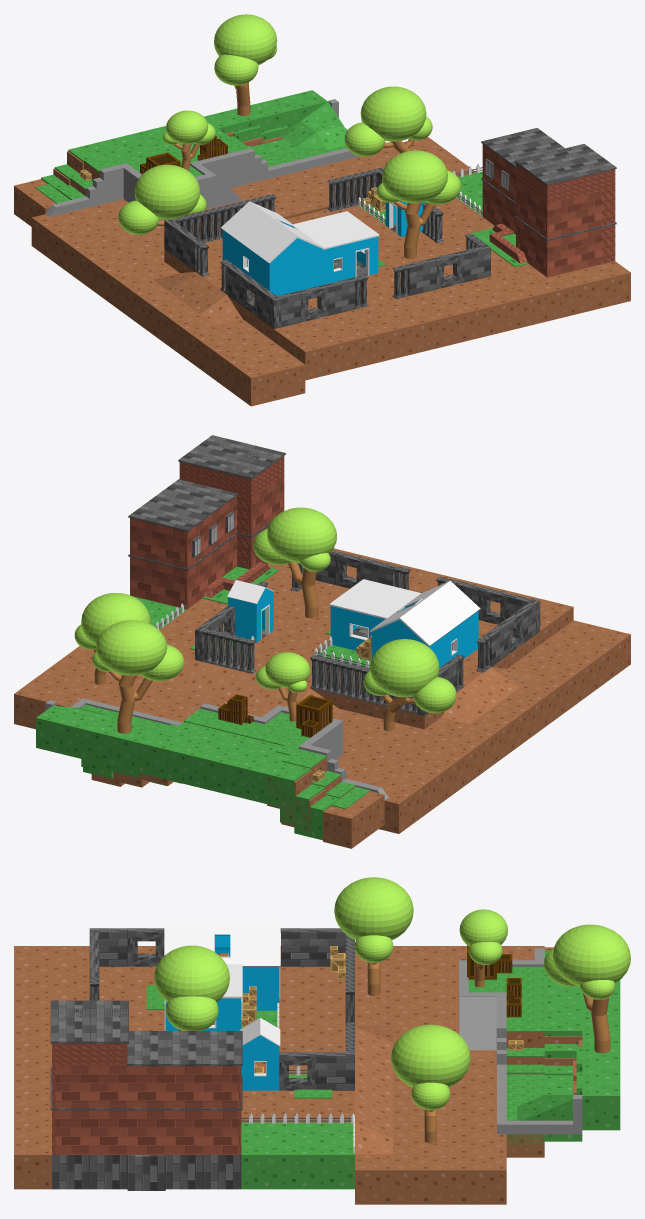
File: SigmaCityTest67.glb
3 renders of one model, top to bottom at view 1: azimuth 30°, elevation 25°; view 2: azimuth 150°, elevation 25°; view 3: azimuth 270°, elevation 25°, orthographic. The views are drawn at different scales.
Visible parts, largest first — view 1: Tree, Tree2.001, Tree2, Tree.001, Tree.002, Dirt.137, Dirt.124, CornerWall.001, Dirt.127, Dirt.131, Dirt.123, Dirt.125 (+58 smaller); view 2: Tree.001, Tree2, Tree, Tree2.001, Tree.002, Dirt.164, Grass.020, Grass.032, Grass.028, Grass.023, Grass.024, Grass.029 (+55 smaller); view 3: Tree.001, Tree2, Tree2.001, Tree, Tree.002, Grass.009, Dirt.106, Grass.029, Grass.007, Dirt.133, Grass.008, StoneSlope (+115 smaller).
Part boxes in pixels (x1,y1,x2,y2): Tree: [376, 150, 460, 258]; Tree2.001: [344, 86, 432, 156]; Tree2: [118, 164, 206, 234]; Tree.001: [214, 14, 277, 115]; Tree.002: [163, 110, 215, 171]; Dirt.137: [235, 360, 278, 406]; Dirt.124: [289, 334, 332, 380]; CornerWall.001: [254, 252, 296, 295]; Dirt.127: [371, 314, 413, 360]; Dirt.131: [534, 274, 576, 320]; Dirt.123: [425, 301, 468, 347]; Dirt.125: [317, 327, 359, 373]; Tree.001: [92, 620, 184, 733]; Tree2: [363, 639, 456, 731]; Tree: [253, 507, 336, 618]; Tree2.001: [74, 593, 150, 684]; Tree.002: [255, 652, 310, 721]; Dirt.164: [323, 803, 368, 848]; Grass.020: [265, 761, 310, 810]; Grass.032: [179, 740, 224, 789]; Grass.028: [64, 712, 109, 761]; Grass.023: [150, 733, 195, 782]; Grass.024: [122, 726, 166, 775]; Grass.029: [36, 705, 80, 754]; Tree.001: [544, 924, 630, 1053]; Tree2: [334, 877, 413, 995]; Tree2.001: [391, 1024, 470, 1143]; Tree: [154, 945, 229, 1030]; Tree.002: [459, 909, 507, 987]; Grass.009: [241, 1138, 279, 1189]; Dirt.106: [468, 1154, 506, 1204]; Grass.029: [582, 1080, 620, 1130]; Grass.007: [279, 1138, 316, 1189]; Dirt.133: [14, 1138, 51, 1189]; Grass.008: [317, 1138, 354, 1189]; StoneSlope: [459, 997, 496, 1050].
Size of what is drawn, in the model's own units: 28.06 by 11 by 32.56.
Materials: 18 (6 with a texture image).
